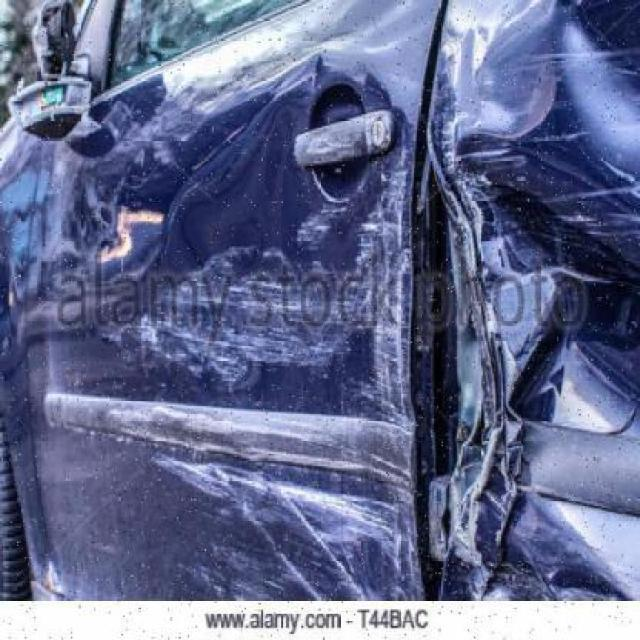doorouter-dent: (60, 86, 427, 608)
